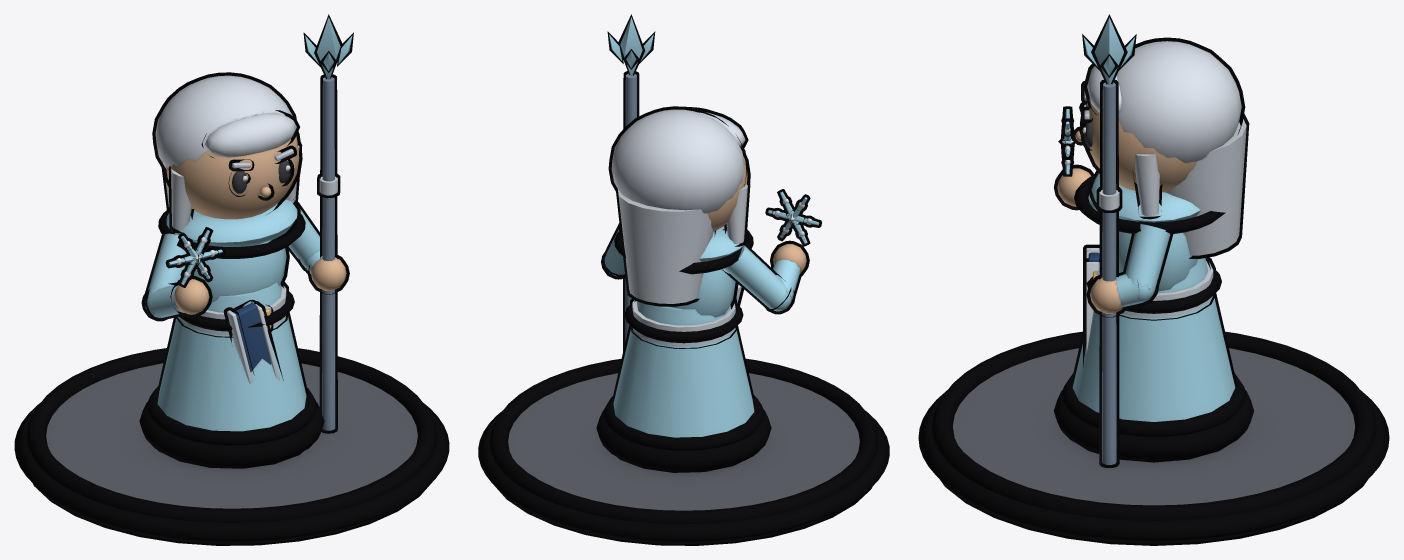
Rendered from frost_mage_s2.fbx.
3 views of the same model, side by side, from view 1: azimuth 30°, elevation 25°; view 2: azimuth 150°, elevation 25°; view 3: azimuth 270°, elevation 25° (orthographic). The views are drawn at different scales.
Parts seen in each view (by area): view 1: frost_mage_s2; view 2: frost_mage_s2; view 3: frost_mage_s2.
Part boxes in pixels (bbox=[...]): frost_mage_s2: bbox=[14, 14, 449, 545]; frost_mage_s2: bbox=[478, 14, 889, 545]; frost_mage_s2: bbox=[918, 14, 1389, 545].
Bounding box in the file's own units: 1.58 × 1.77 × 1.58.
2 materials, 1 textured.
